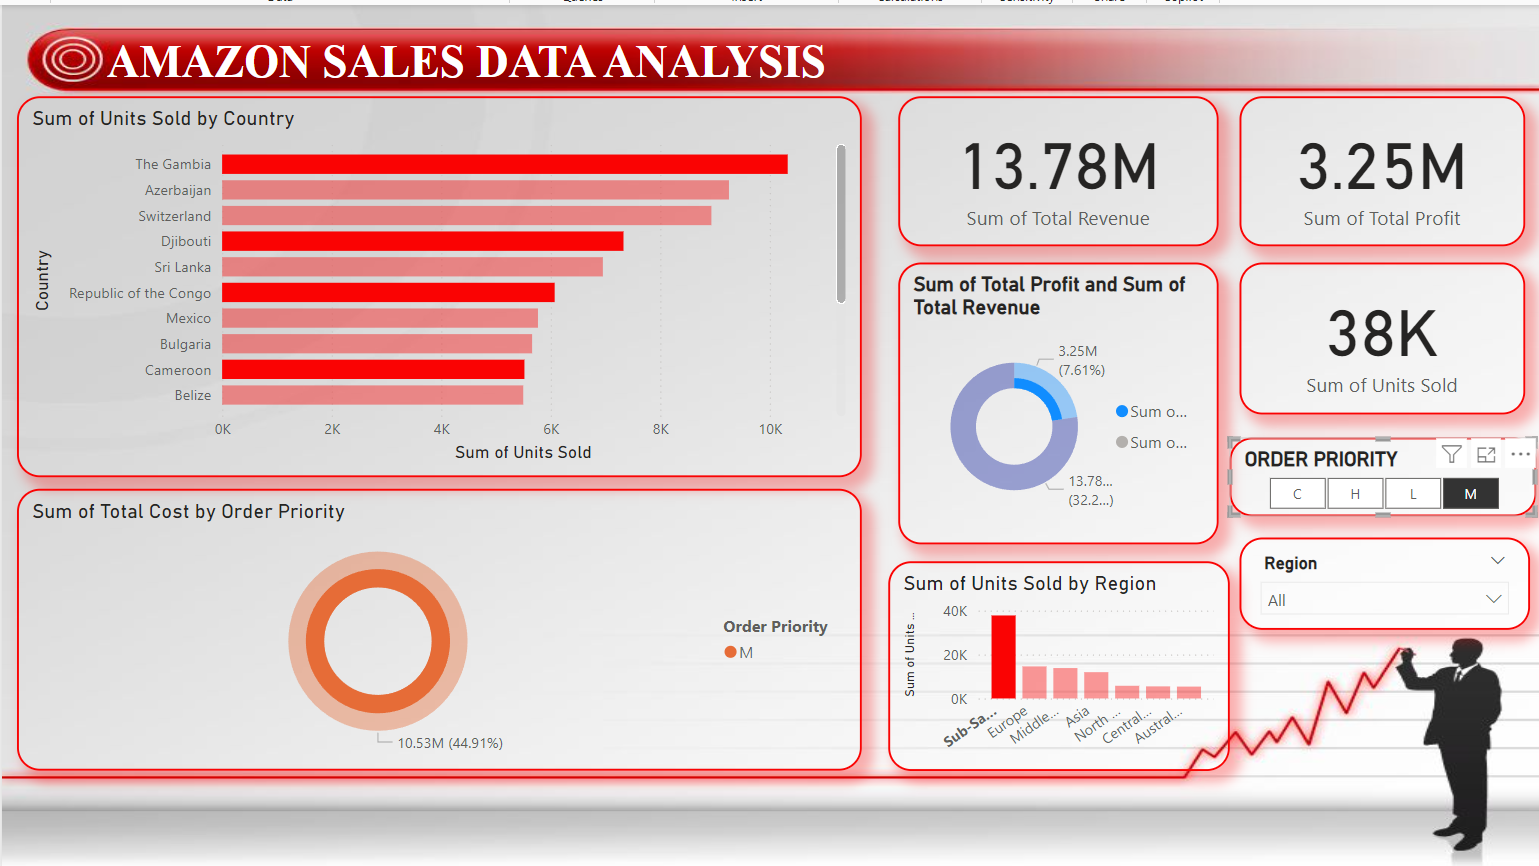

This screenshot's page, from the dashboard's own definition file:
{"tool":"powerbi","page":{"name":"Page 1","canvas":[1280,720],"ordinal":0},"visuals":[{"type":"card","fields":{"Values":["Sum(Amazon Sales data.Units Sold)"]},"box":[1029.2,214.1,237.4,126.2],"z":0},{"type":"card","fields":{"Values":["Sum(Amazon Sales data.Total Profit)"]},"box":[1029.2,75.5,237.4,124.9],"z":1000},{"type":"card","fields":{"Values":["Sum(Amazon Sales data.Total Revenue)"]},"box":[745.1,75.5,266.2,124.9],"z":2000},{"type":"textbox","box":[82.3,20.6,662.8,64.5],"z":3000},{"type":"donutChart","fields":{"Category":["Amazon Sales data.Order Priority"],"Y":["Sum(Amazon Sales data.Total Cost)"]},"box":[12.3,402.1,702.6,234.6],"z":5000},{"type":"donutChart","fields":{"Y":["Sum(Amazon Sales data.Total Profit)","Sum(Amazon Sales data.Total Revenue)"]},"box":[745.1,214.1,266.2,234.6],"z":6000},{"type":"slicer","title":"ORDER PRIORITY","fields":{"Values":["Amazon Sales data.Order Priority"]},"box":[1020.9,359.5,255.2,65.9],"z":7000},{"type":"clusteredBarChart","fields":{"Category":["Amazon Sales data.Country"],"Y":["Sum(Amazon Sales data.Units Sold)"]},"box":[12.3,75.5,702.6,317],"z":7001},{"type":"clusteredColumnChart","fields":{"Y":["Sum(Amazon Sales data.Units Sold)"],"Category":["Amazon Sales data.Region"]},"box":[736.9,462.4,284,174.3],"z":7002},{"type":"slicer","fields":{"Values":["Amazon Sales data.Region"]},"box":[1029.2,443.2,241.5,76.8],"z":7003}]}

Visuals, with their boxes on the page's 1280x720 design canvas (x1, y1, x2, y2). These are canvas units, not pixel positions in the 1539x866 screenshot, which may show the page scaled, cropped or inside an application window:
card - Sum(Amazon Sales data.Units Sold): BBox(1029, 214, 1267, 340)
card - Sum(Amazon Sales data.Total Profit): BBox(1029, 76, 1267, 200)
card - Sum(Amazon Sales data.Total Revenue): BBox(745, 76, 1011, 200)
textbox: BBox(82, 21, 745, 85)
donutChart - Amazon Sales data.Order Priority x Sum(Amazon Sales data.Total Cost): BBox(12, 402, 715, 637)
donutChart - Sum(Amazon Sales data.Total Profit) x Sum(Amazon Sales data.Total Revenue): BBox(745, 214, 1011, 449)
"ORDER PRIORITY" slicer: BBox(1021, 360, 1276, 425)
clusteredBarChart - Amazon Sales data.Country x Sum(Amazon Sales data.Units Sold): BBox(12, 76, 715, 392)
clusteredColumnChart - Sum(Amazon Sales data.Units Sold) x Amazon Sales data.Region: BBox(737, 462, 1021, 637)
slicer - Amazon Sales data.Region: BBox(1029, 443, 1271, 520)
